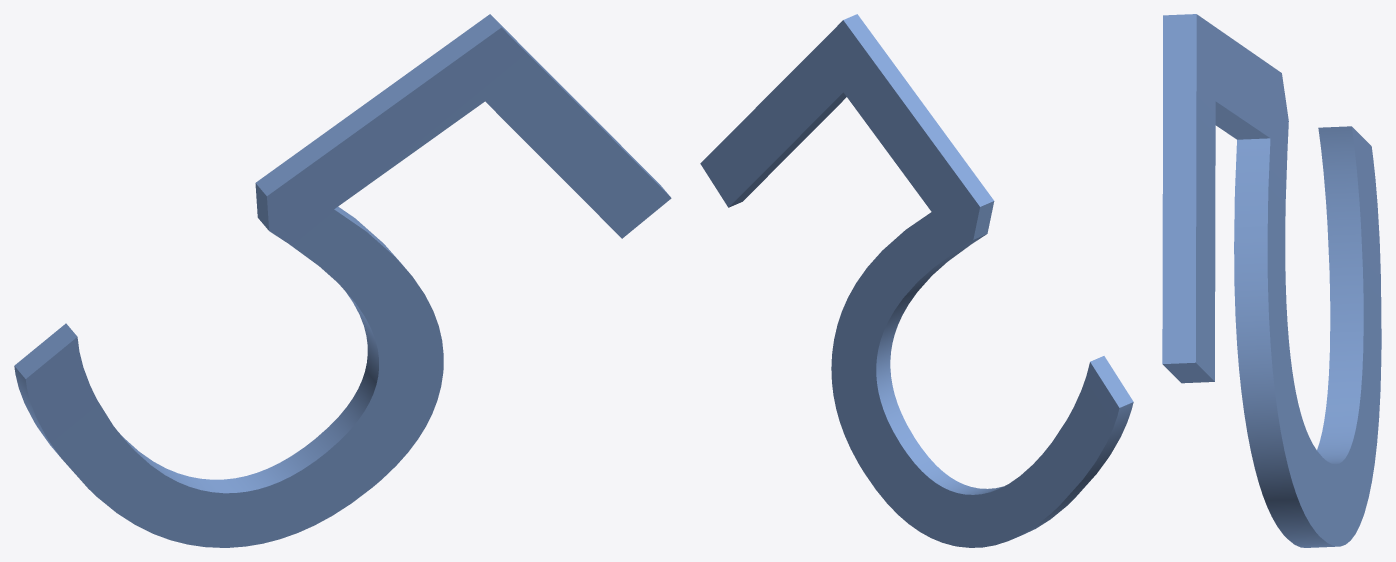
The model's file is New_Number_5.gltf.
3 renders of one model, left to right at view 1: azimuth 30°, elevation 25°; view 2: azimuth 150°, elevation 25°; view 3: azimuth 270°, elevation 25°, orthographic. The views are drawn at different scales.
Visible parts, largest first — view 1: Part 95; view 2: Part 95; view 3: Part 95.
Part boxes in pixels (x1=…): Part 95: x1=14, y1=14, x2=671, y2=547; Part 95: x1=700, y1=14, x2=1133, y2=547; Part 95: x1=1162, y1=14, x2=1381, y2=547.
Size of the model in its own units: 0.00593 by 0.0052 by 0.00166.
